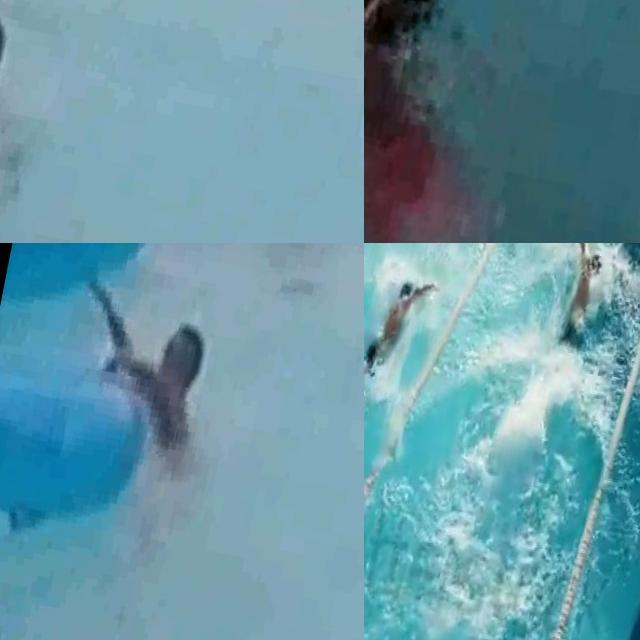drowning: (58, 260, 282, 503), (364, 0, 489, 243), (0, 0, 109, 235)
swimming: (525, 243, 622, 397), (364, 243, 451, 372)
